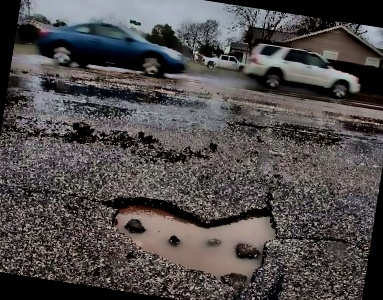pothole: (97, 183, 284, 289), (42, 74, 167, 110), (348, 112, 383, 126)
